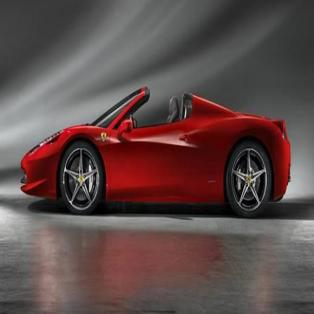Auto: (20, 88, 292, 216)
